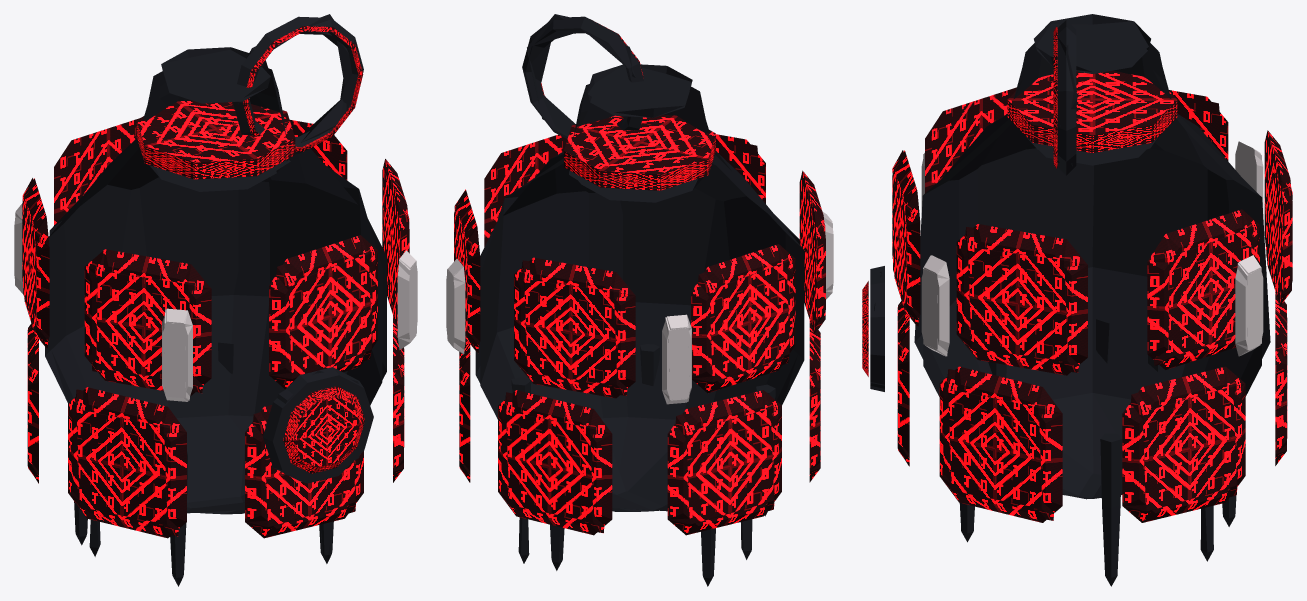
File: binary-grenade.glb
3 renders of one model, left to right at view 1: azimuth 30°, elevation 25°; view 2: azimuth 150°, elevation 25°; view 3: azimuth 270°, elevation 25°, orthographic. The views are drawn at different scales.
Parts seen in each view (by area): view 1: binary_grenade_held__RK_Binary_Emission, binary_grenade_world__RK_Binary_Glossy_Leak, binary_grenade_world__RK_Binary_Emission, binary_grenade_held__RK_Binary_Glossy_Leak, binary_grenade_held__RK_Binary_Pale_Structure, binary_grenade_world__RK_Binary_Pale_Structure; view 2: binary_grenade_held__RK_Binary_Emission, binary_grenade_world__RK_Binary_Glossy_Leak, binary_grenade_world__RK_Binary_Emission, binary_grenade_held__RK_Binary_Glossy_Leak, binary_grenade_held__RK_Binary_Pale_Structure, binary_grenade_world__RK_Binary_Pale_Structure; view 3: binary_grenade_world__RK_Binary_Glossy_Leak, binary_grenade_held__RK_Binary_Emission, binary_grenade_world__RK_Binary_Emission, binary_grenade_held__RK_Binary_Glossy_Leak, binary_grenade_held__RK_Binary_Pale_Structure, binary_grenade_world__RK_Binary_Pale_Structure.
Part boxes in pixels (<box>): binary_grenade_held__RK_Binary_Emission: <box>22,26,409,538</box>; binary_grenade_world__RK_Binary_Glossy_Leak: <box>49,14,382,563</box>; binary_grenade_world__RK_Binary_Emission: <box>22,120,409,537</box>; binary_grenade_held__RK_Binary_Glossy_Leak: <box>45,16,386,586</box>; binary_grenade_held__RK_Binary_Pale_Structure: <box>14,204,417,401</box>; binary_grenade_world__RK_Binary_Pale_Structure: <box>15,208,416,400</box>; binary_grenade_held__RK_Binary_Emission: <box>454,19,825,535</box>; binary_grenade_world__RK_Binary_Glossy_Leak: <box>480,14,799,563</box>; binary_grenade_world__RK_Binary_Emission: <box>454,144,825,534</box>; binary_grenade_held__RK_Binary_Glossy_Leak: <box>475,16,804,586</box>; binary_grenade_held__RK_Binary_Pale_Structure: <box>446,211,833,404</box>; binary_grenade_world__RK_Binary_Pale_Structure: <box>447,217,832,403</box>; binary_grenade_world__RK_Binary_Glossy_Leak: <box>870,21,1270,561</box>; binary_grenade_held__RK_Binary_Emission: <box>862,26,1292,522</box>; binary_grenade_world__RK_Binary_Emission: <box>863,87,1292,522</box>; binary_grenade_held__RK_Binary_Glossy_Leak: <box>870,14,1261,586</box>; binary_grenade_held__RK_Binary_Pale_Structure: <box>921,141,1263,356</box>; binary_grenade_world__RK_Binary_Pale_Structure: <box>923,149,1261,356</box>.
Bounding box in the file's own units: 0.2472 × 0.363 × 0.2636.
Materials: 3 (1 with a texture image).
